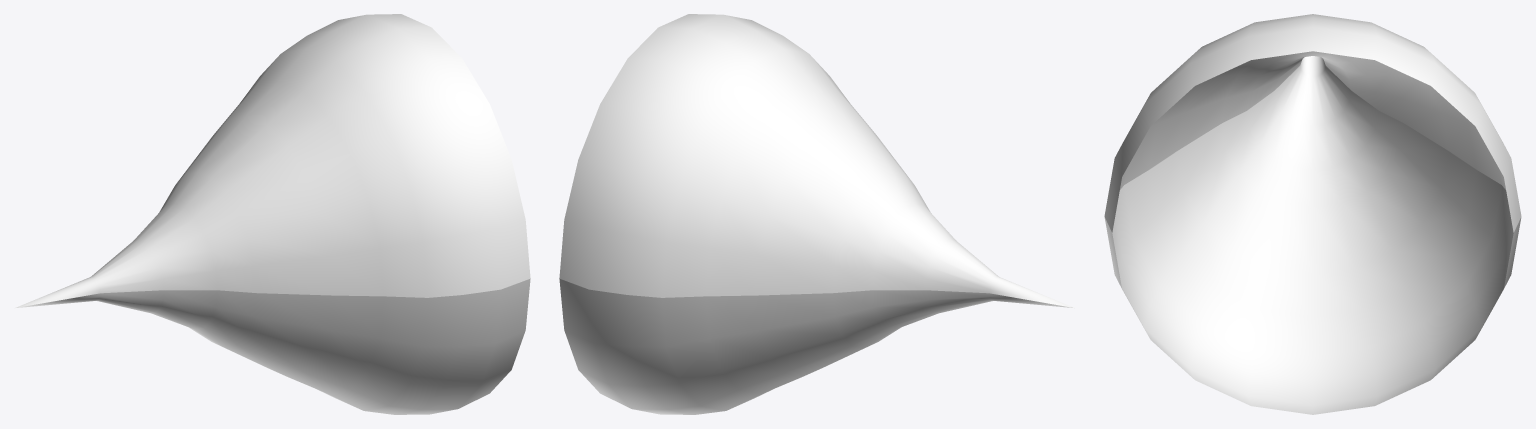
The model's file is ami_02.fbx.
3 renders of one model, left to right at view 1: azimuth 30°, elevation 25°; view 2: azimuth 150°, elevation 25°; view 3: azimuth 270°, elevation 25°, orthographic.
Visible parts, largest first — view 1: pSphere3; view 2: pSphere3; view 3: pSphere3.
Part boxes in pixels (x1=…): pSphere3: x1=15, y1=14, x2=530, y2=414; pSphere3: x1=559, y1=14, x2=1074, y2=414; pSphere3: x1=1104, y1=14, x2=1521, y2=414.
Bounding box in the file's own units: 6.62 × 5.63 × 5.63.
